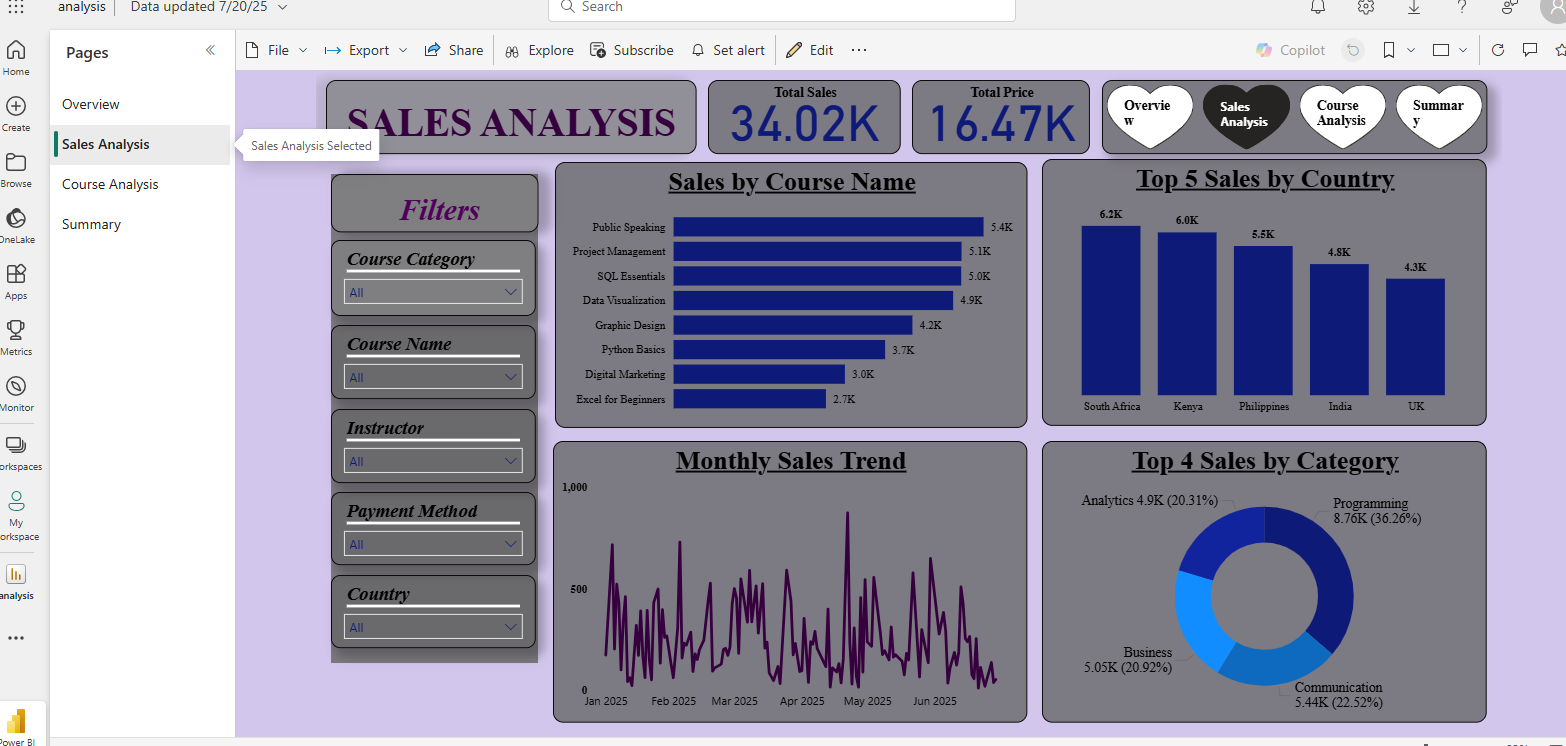

The dashboard page shown, as its layout file describes it:
{"tool":"powerbi","page":{"name":"Sales Analysis","canvas":[1280,720],"ordinal":1},"visuals":[{"type":"slicer","fields":{"Values":["Project 2;Online_Course_Sales.Course Name"]},"box":[16.2,295.5,220.4,89.9],"z":0,"group":"g1"},{"type":"lineChart","title":"Monthly Sales Trend","fields":{"Category":["Project 2;Online_Course_Sales.Order Date.Variation.Date Hierarchy.Year","Project 2;Online_Course_Sales.Order Date.Variation.Date Hierarchy.Quarter","Project 2;Online_Course_Sales.Order Date.Variation.Date Hierarchy.Month","Project 2;Online_Course_Sales.Order Date.Variation.Date Hierarchy.Day"],"Y":["Sum(Project 2;Online_Course_Sales.Total)"]},"box":[256,400,512,304],"z":0},{"type":"barChart","title":"Sales by Course Name","fields":{"Y":["Sum(Project 2;Online_Course_Sales.Total)"],"Category":["Project 2;Online_Course_Sales.Course Name"]},"box":[258,99,510,287],"z":1000},{"type":"slicer","fields":{"Values":["Project 2;Online_Course_Sales.Category"]},"box":[16.2,192.2,220.4,92.1],"z":1000,"group":"g1"},{"type":"donutChart","title":"Top 4 Sales  by Category","fields":{"Category":["Project 2;Online_Course_Sales.Category"],"Y":["Measures Table.Total Sales"]},"box":[784,400,480,304],"z":2000},{"type":"slicer","fields":{"Values":["Project 2;Online_Course_Sales.Country"]},"box":[16.2,597.8,220.4,89.2],"z":2000,"group":"g1"},{"type":"textbox","box":[11.1,11.1,400,80],"z":3000},{"type":"slicer","fields":{"Values":["Project 2;Online_Course_Sales.Payment Method"]},"box":[16.2,497.8,220.4,88.8],"z":3000,"group":"g1"},{"type":"pageNavigator","box":[848,11.1,416,80],"z":4000},{"type":"slicer","fields":{"Values":["Project 2;Online_Course_Sales.Instructor"]},"box":[16.2,396.7,220.4,89.9],"z":4000,"group":"g1"},{"type":"card","title":"Total Sales","fields":{"Values":["Measures Table.Total Sales"]},"box":[423.4,11.1,208,80],"z":5000},{"type":"card","title":"Total Price","fields":{"Values":["Measures Table.Total Price"]},"box":[643.7,11.1,192,80],"z":6000},{"type":"clusteredColumnChart","title":"Top 5 Sales by Country","fields":{"Category":["Project 2;Online_Course_Sales.Country"],"Y":["Measures Table.Total Sales"]},"box":[784,96,480,288],"z":7000},{"type":"group","id":"g1","title":"Group 1","box":[16.2,112.3,223.4,592.7],"z":8000},{"type":"textbox","box":[16.2,112.3,223.4,71],"z":9003,"group":"g1"}]}

Visuals, with their boxes on the page's 1280x720 design canvas (x1, y1, x2, y2). These are canvas units, not pixel positions in the 1566x746 screenshot, which may show the page scaled, cropped or inside an application window:
slicer - Project 2;Online_Course_Sales.Course Name: crop(16, 296, 237, 385)
"Monthly Sales Trend" lineChart: crop(256, 400, 768, 704)
"Sales by Course Name" barChart: crop(258, 99, 768, 386)
slicer - Project 2;Online_Course_Sales.Category: crop(16, 192, 237, 284)
"Top 4 Sales  by Category" donutChart: crop(784, 400, 1264, 704)
slicer - Project 2;Online_Course_Sales.Country: crop(16, 598, 237, 687)
textbox: crop(11, 11, 411, 91)
slicer - Project 2;Online_Course_Sales.Payment Method: crop(16, 498, 237, 587)
pageNavigator: crop(848, 11, 1264, 91)
slicer - Project 2;Online_Course_Sales.Instructor: crop(16, 397, 237, 487)
"Total Sales" card: crop(423, 11, 631, 91)
"Total Price" card: crop(644, 11, 836, 91)
"Top 5 Sales by Country" clusteredColumnChart: crop(784, 96, 1264, 384)
"Group 1" group: crop(16, 112, 240, 705)
textbox: crop(16, 112, 240, 183)
